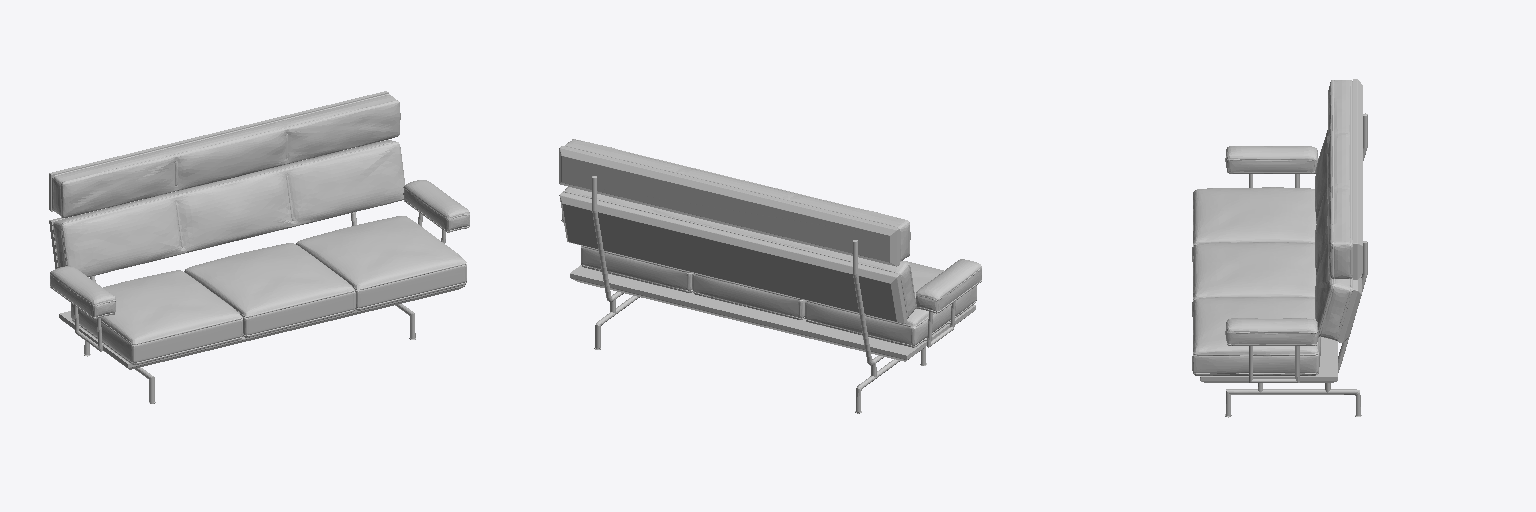
The model's file is chair.obj.
3 views of the same model, side by side, from view 1: azimuth 30°, elevation 25°; view 2: azimuth 150°, elevation 25°; view 3: azimuth 270°, elevation 25° (orthographic).
Bounding box in the file's own units: 0.7273 × 0.3529 × 0.2917.